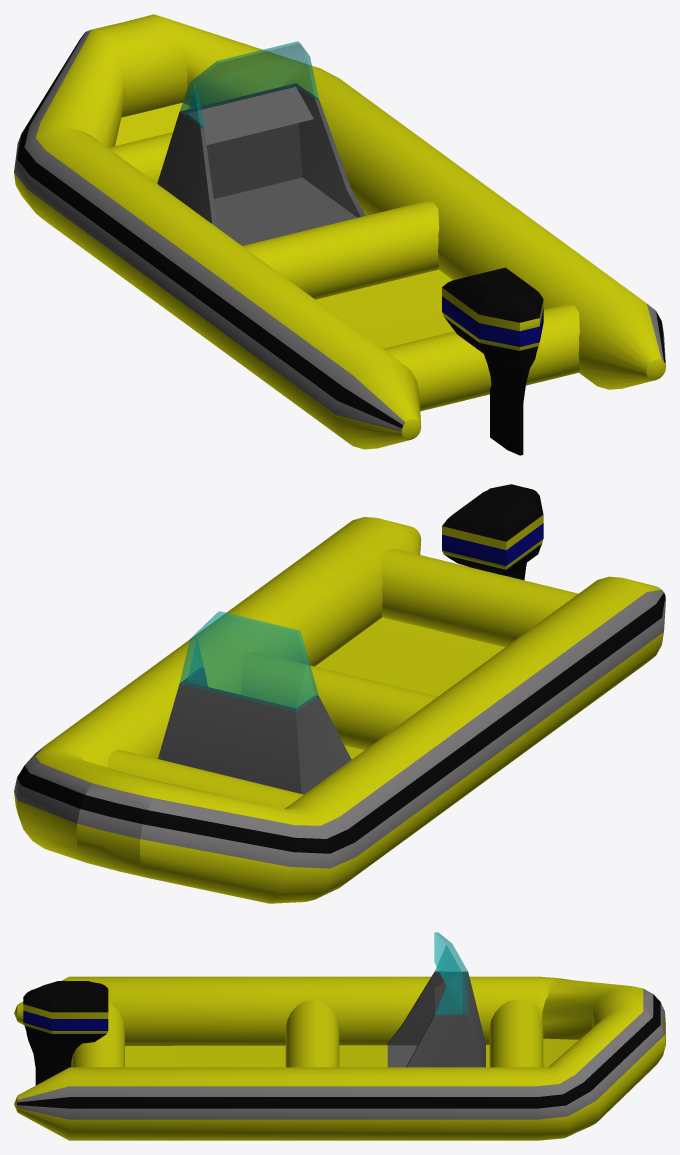
Rendered from dingy.fbx.
The picture shows the model from 3 angles, top to bottom: view 1: azimuth 30°, elevation 25°; view 2: azimuth 150°, elevation 25°; view 3: azimuth 270°, elevation 25°; orthographic projection. The views are drawn at different scales.
Parts seen in each view (by area): view 1: polySurface6; view 2: polySurface6; view 3: polySurface6.
Boxes of the visible parts, x1=… form: polySurface6: x1=14, y1=14, x2=665, y2=455; polySurface6: x1=14, y1=484, x2=665, y2=903; polySurface6: x1=14, y1=932, x2=665, y2=1140.
Bounding box in the file's own units: 5.4 × 3.3 × 12.17.
